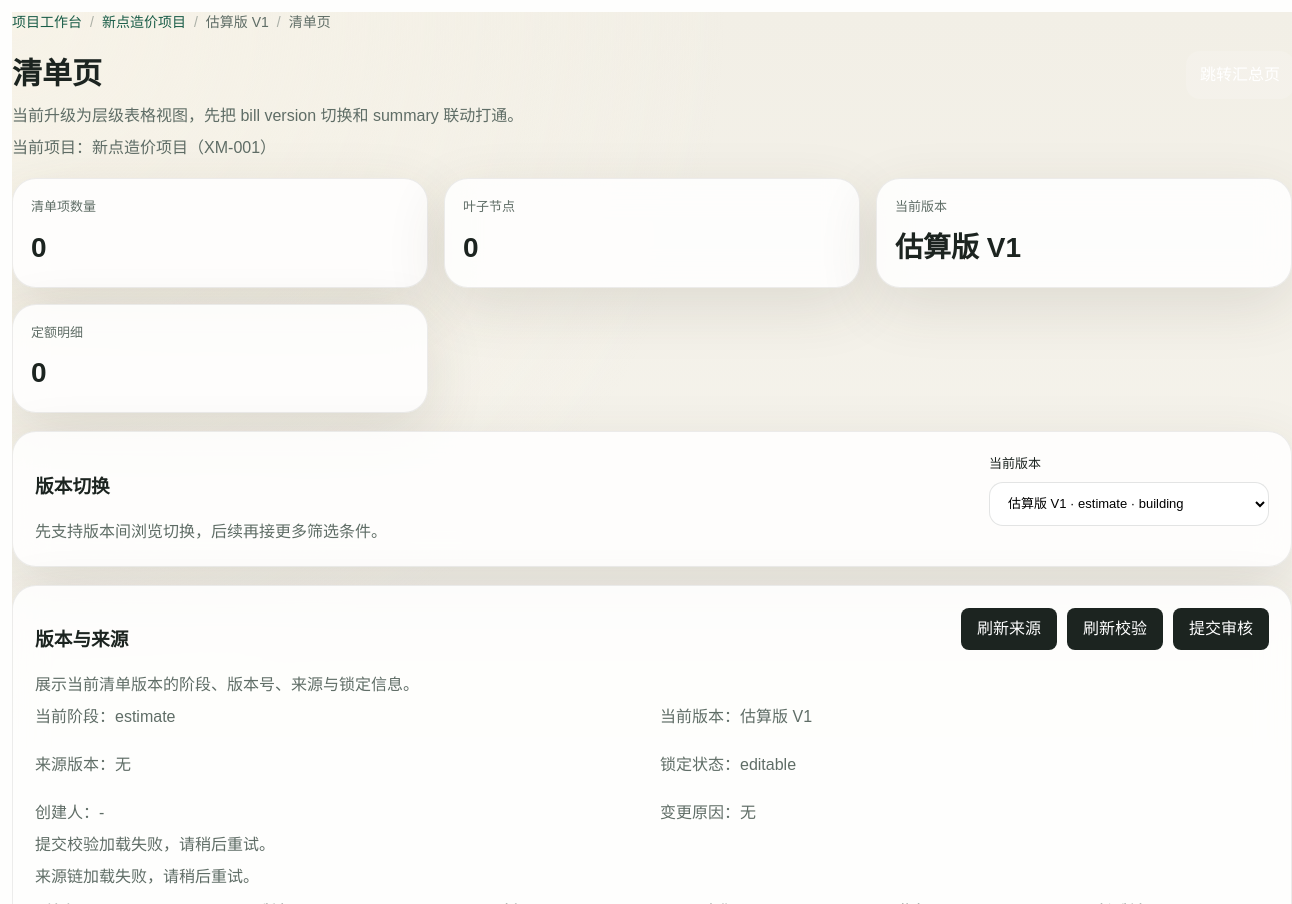
Test: BillItemsPage › runs bill version submit and withdraw actions from the source panel
Click the button "提交审核" at (1221, 628), box top-left (1173, 608), bottom-right (1269, 650)
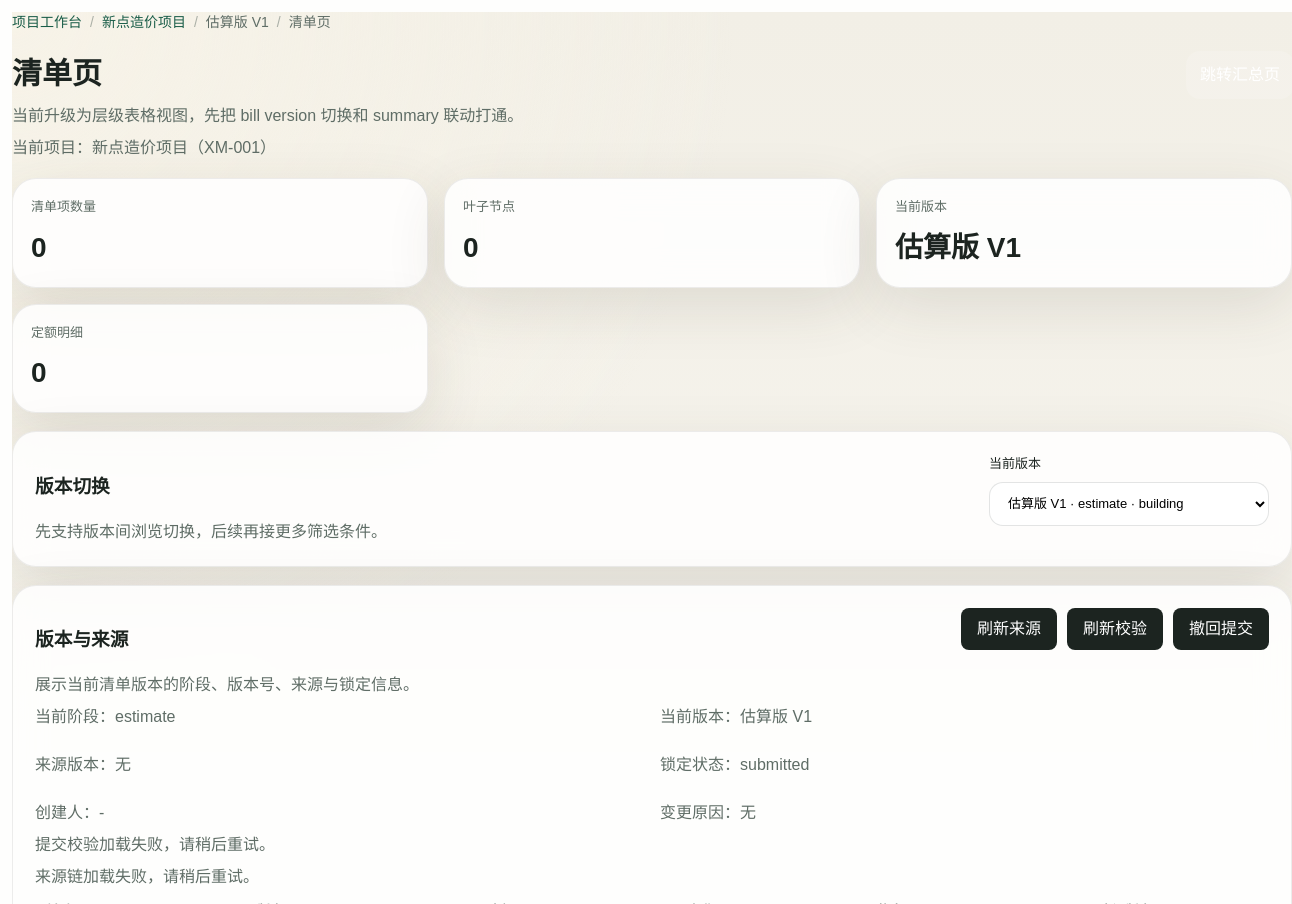
Expected: the text "锁定状态：submitted" is shown, top-left (660, 756), bottom-right (809, 773)
Expected: the button "撤回提交" is shown
Click the button "撤回提交" at (1221, 628), box top-left (1173, 608), bottom-right (1269, 650)
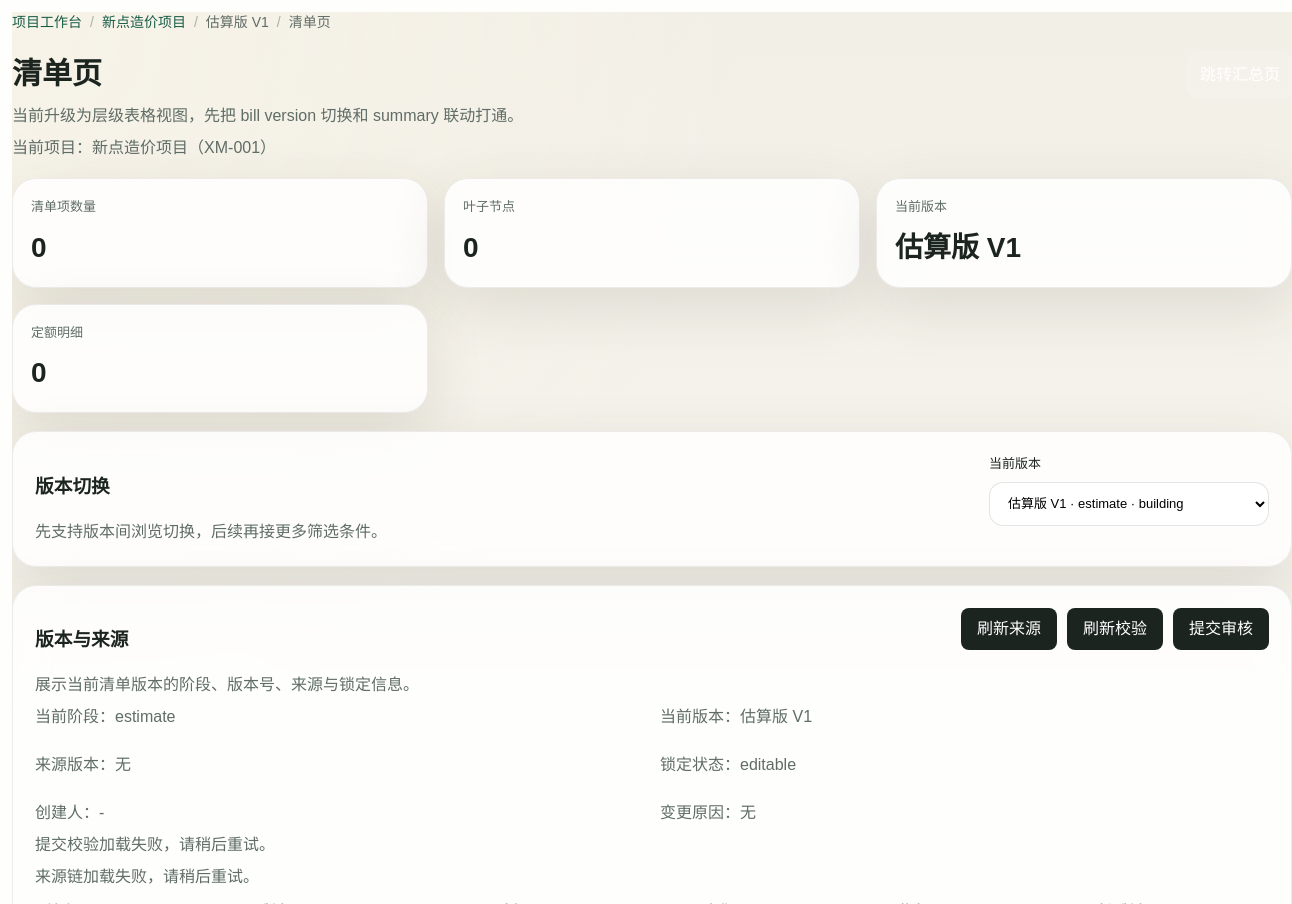
Expected: the text "锁定状态：editable" is shown, top-left (660, 756), bottom-right (796, 773)
